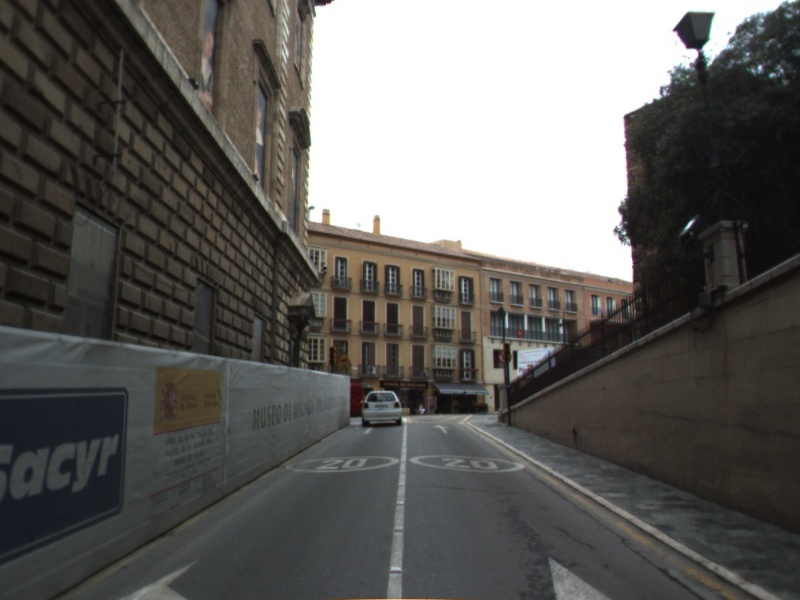STRAIGHT: (431, 422, 452, 435)
